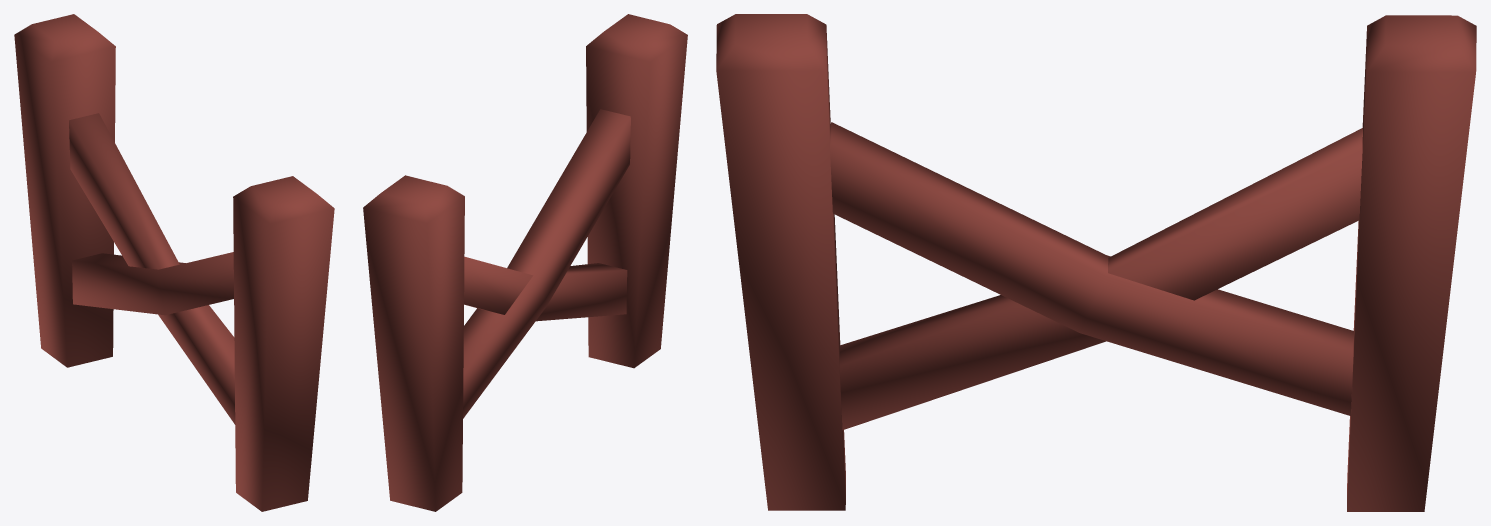
The model's file is Fence_03.fbx.
3 renders of one model, left to right at view 1: azimuth 30°, elevation 25°; view 2: azimuth 150°, elevation 25°; view 3: azimuth 270°, elevation 25°, orthographic. The views are drawn at different scales.
Parts seen in each view (by area): view 1: Fence_03; view 2: Fence_03; view 3: Fence_03.
Boxes of the visible parts, x1=… form: Fence_03: x1=14, y1=14, x2=334, y2=511; Fence_03: x1=363, y1=14, x2=687, y2=511; Fence_03: x1=716, y1=14, x2=1476, y2=511.
Size of the model in its own units: 25.92 by 117 by 174.
